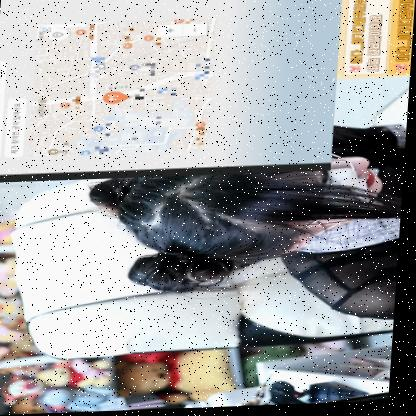streamer: (81, 120, 409, 333)
